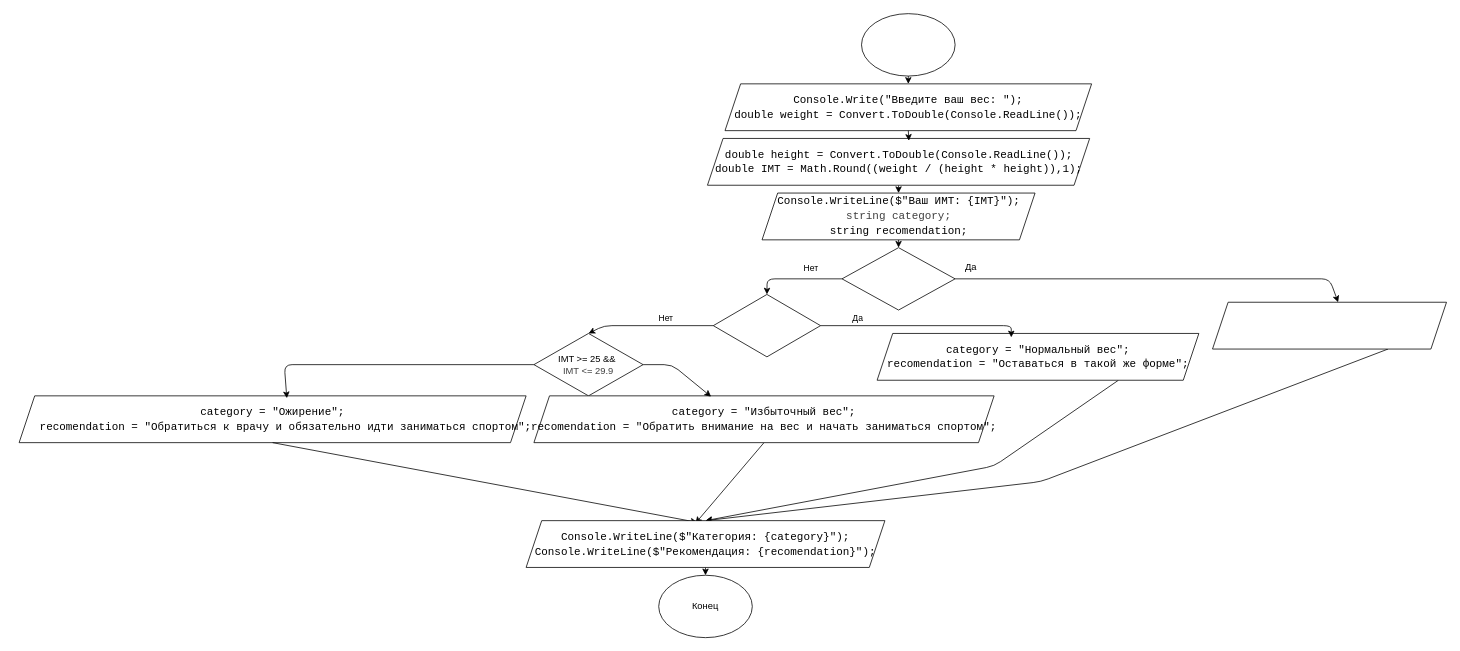
This 1460x651 diagram has some shape labels left out. Each missing label, with the centre of its shape:
category = "Недостаточный вес" ; recomendation = "Набрать вес" ;: point (1329, 325)
IMT < 18.5: point (898, 278)
IMT >= 18.5 && IMT <= 24.9: point (767, 325)
Начало: point (908, 44)
